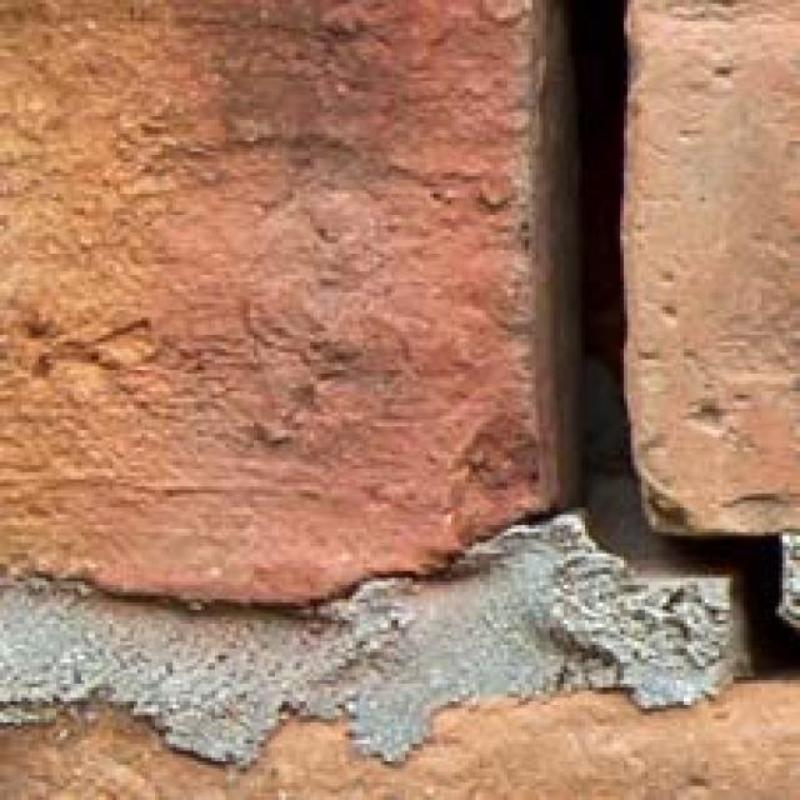pothole: (568, 0, 800, 676)
